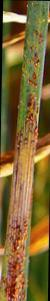Wheat: (17, 27, 44, 152), (8, 214, 30, 300)
